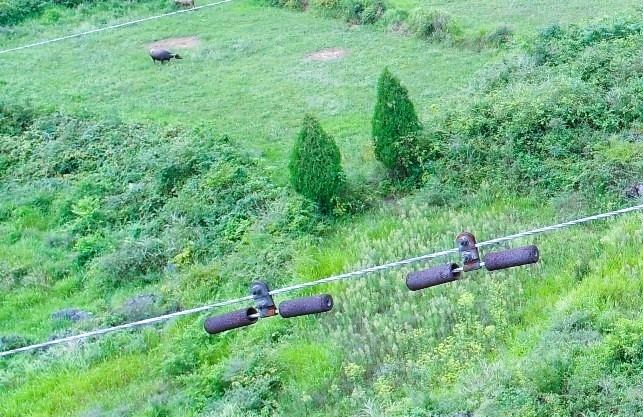Shockproof hammer: (397, 225, 545, 295), (199, 272, 341, 339)
